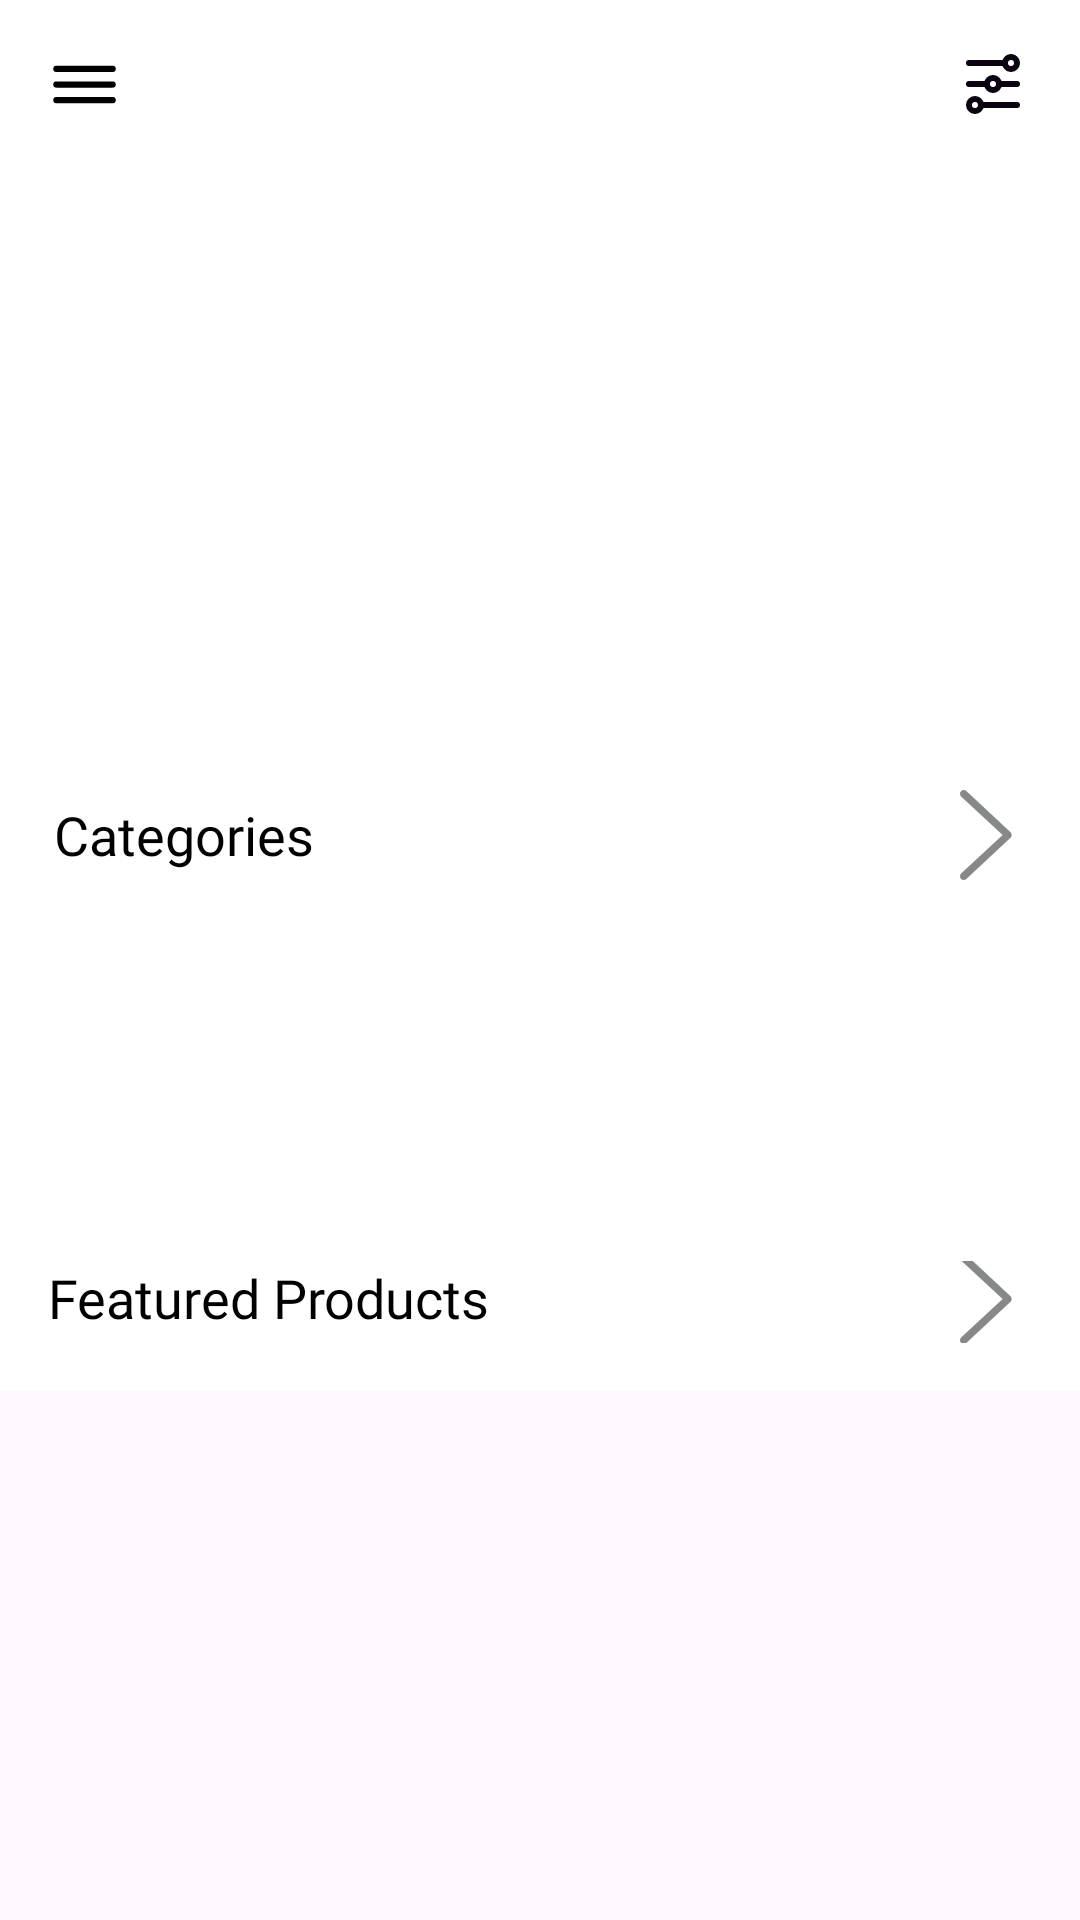

Locate icon controls on the screen. Image size 1080px x 1920px, boxes as (x1, y1, x2, y2).
filter: (966, 54, 1020, 114)
menu: (53, 65, 116, 104)
